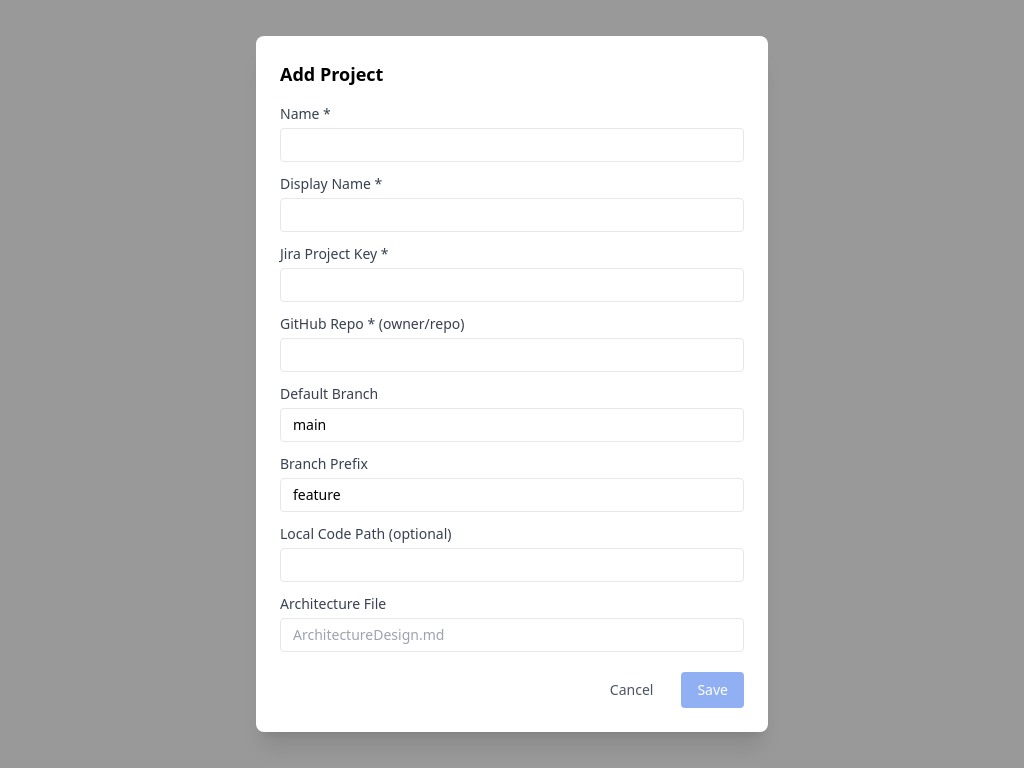
ProjectModal — add mode › shows PROJECT_EXISTS error when server returns that code (AC-6)
The image size is (1024, 768).
Type "existing" into the field labelled "Name *" at [512, 145], box [280,128,744,162]
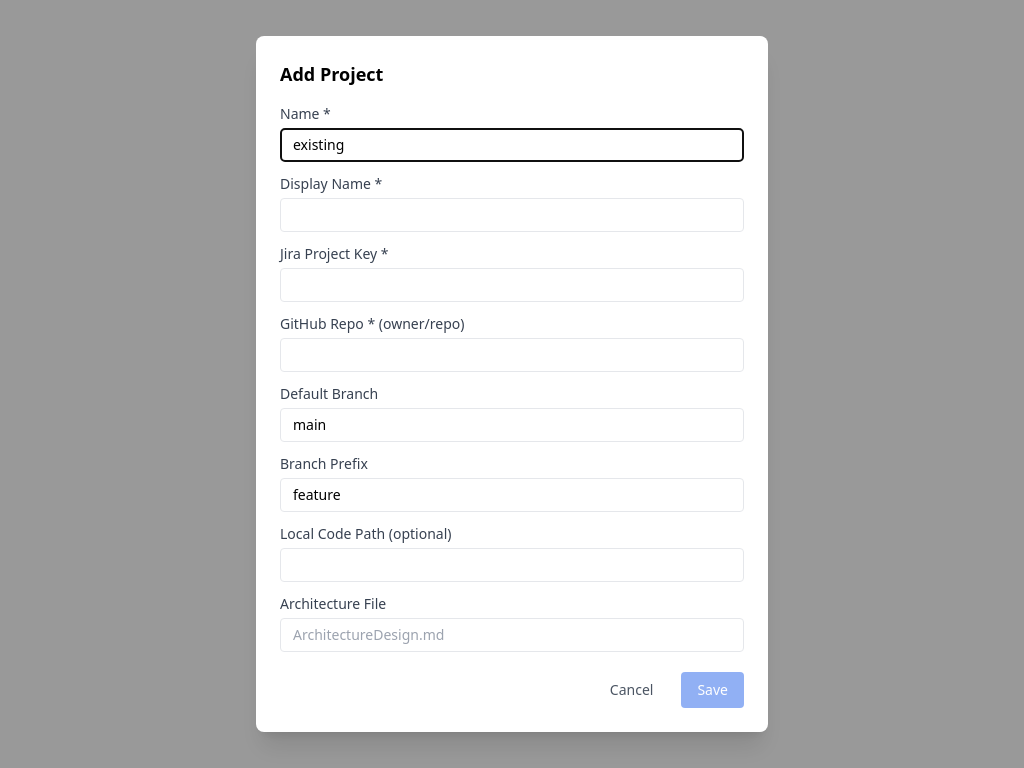
Type "Existing" into the field labelled "Display Name *" at [512, 215], box [280,198,744,232]
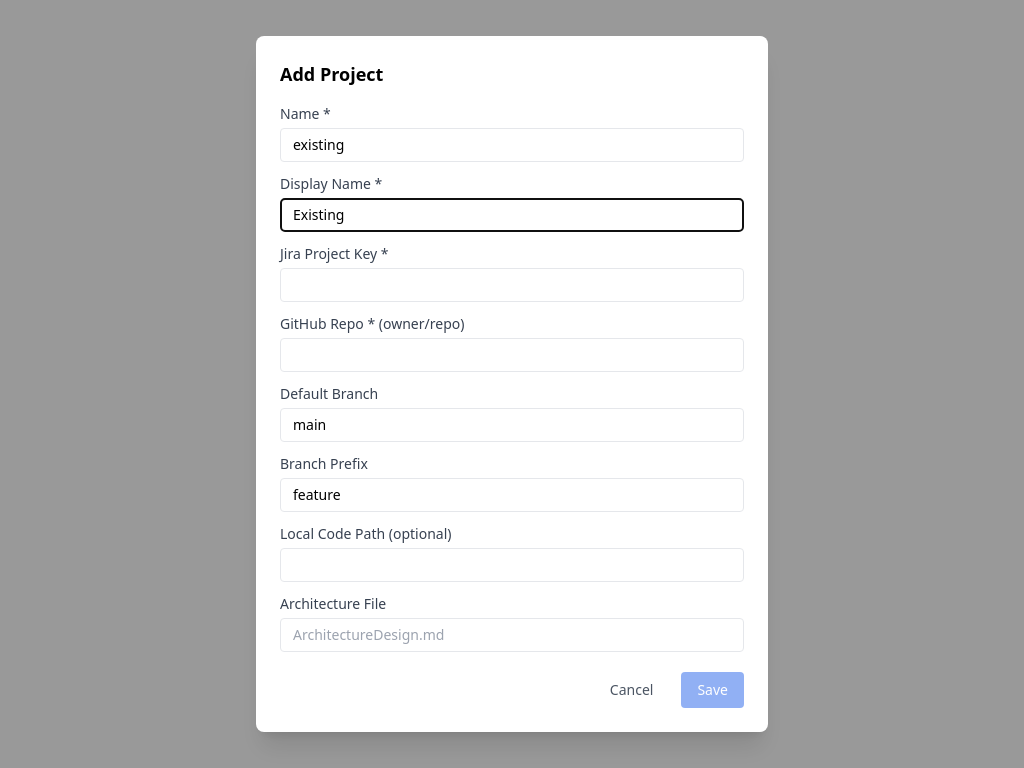
Type "EX" into the field labelled "Jira Project Key *" at [512, 285], box [280,268,744,302]
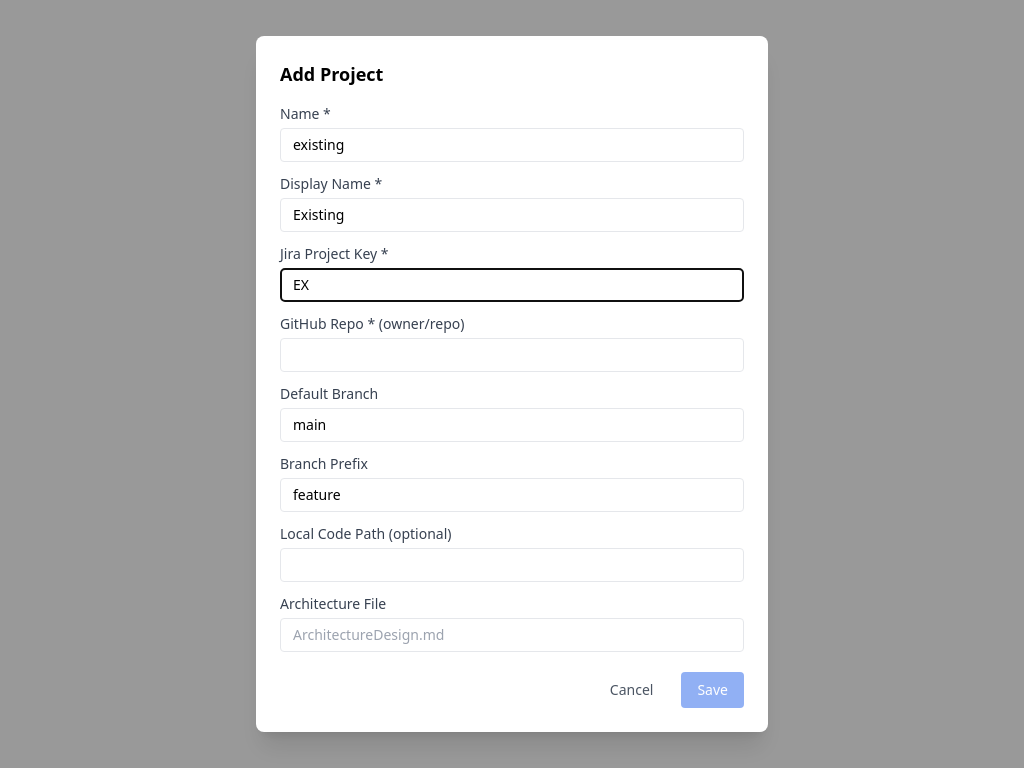
Type "owner/existing" into the field labelled "GitHub Repo * (owner/repo)" at [512, 355], box [280,338,744,372]
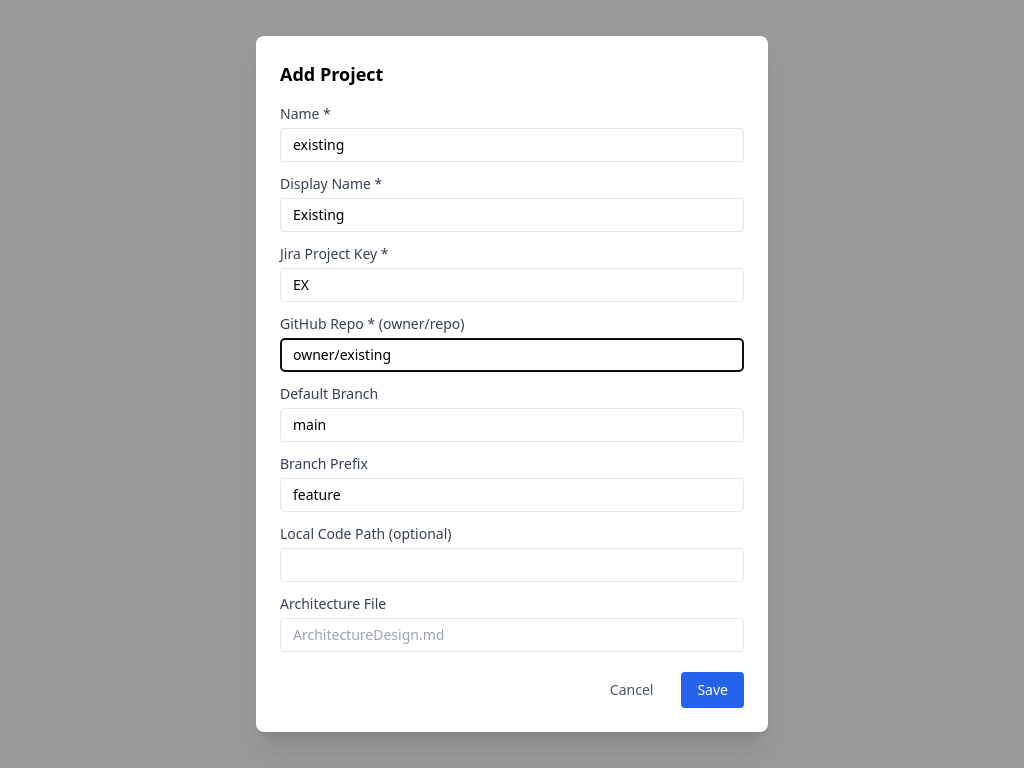
Click the button "Save" at [713, 690], box [681,672,744,708]
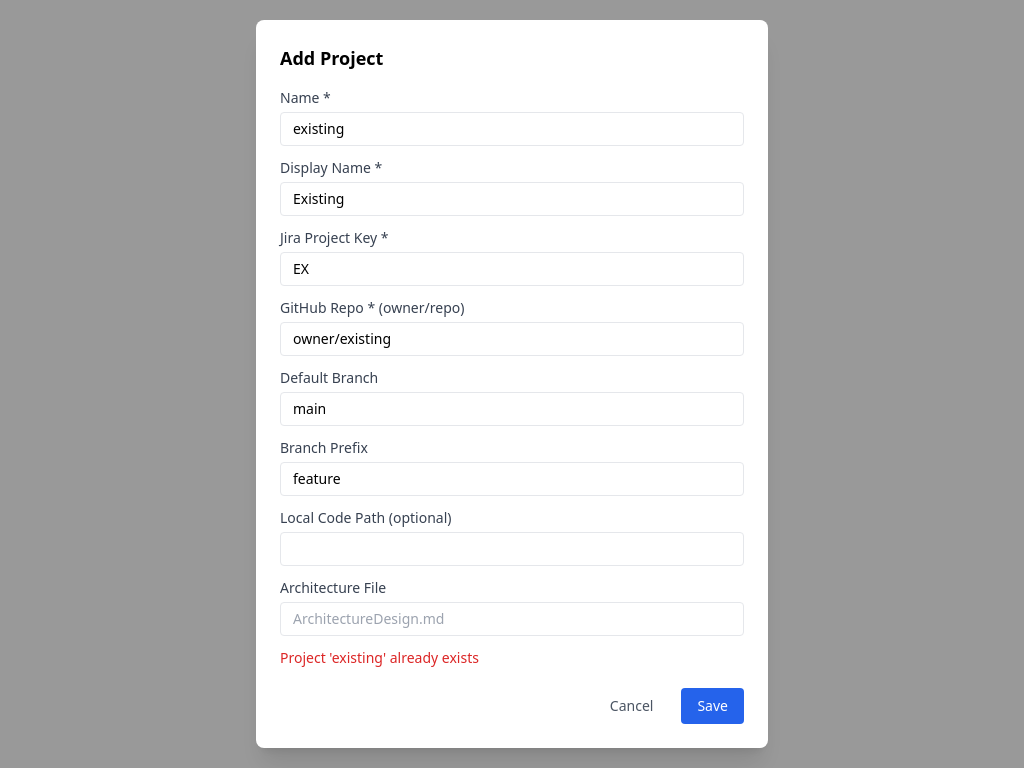
Result: the text "Project 'existing' already exists" is shown at [280,648,479,667]
